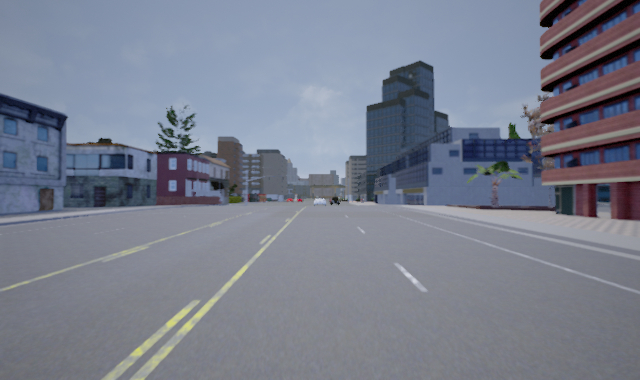vehicle: (312, 196, 328, 207), (329, 196, 340, 207)
